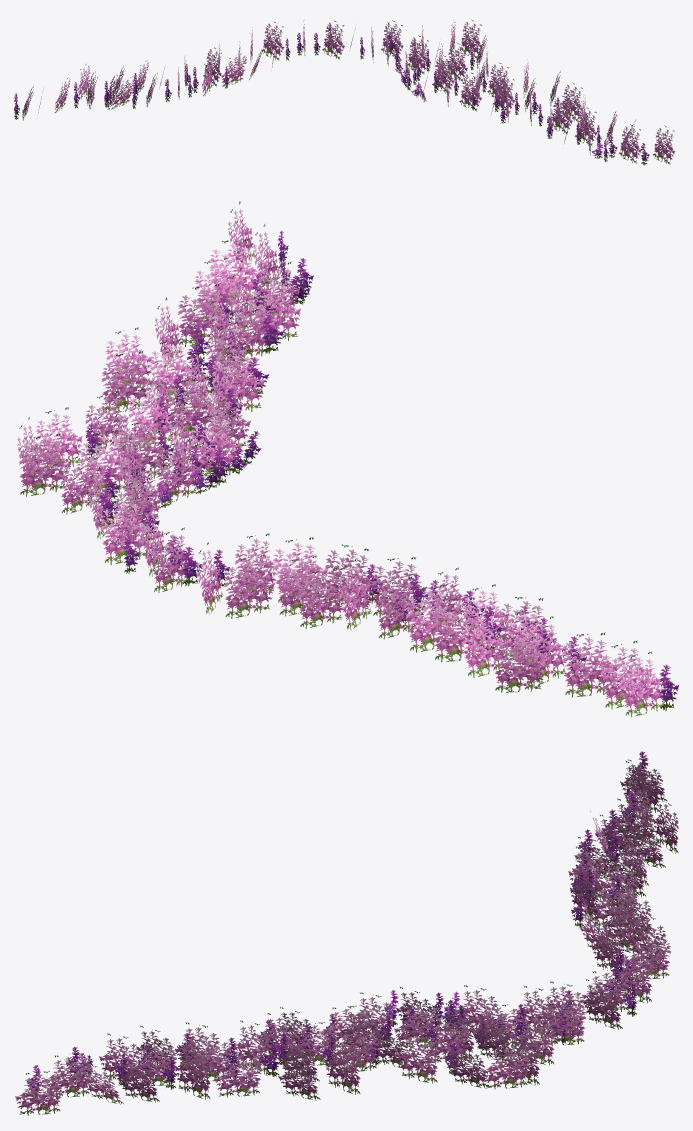
Rendered from Ma1_P_xiaohua01.FBX.
3 views of the same model, one above another, from view 1: azimuth 30°, elevation 25°; view 2: azimuth 150°, elevation 25°; view 3: azimuth 270°, elevation 25° (orthographic). The views are drawn at different scales.
Parts seen in each view (by area): view 1: Ma1_P_xiaohua01; view 2: Ma1_P_xiaohua01; view 3: Ma1_P_xiaohua01.
Part boxes in pixels (left/top/right/bottom): Ma1_P_xiaohua01: left=14, top=19, right=675, bottom=165; Ma1_P_xiaohua01: left=17, top=201, right=678, bottom=717; Ma1_P_xiaohua01: left=15, top=751, right=678, bottom=1115.
Size of the model in its own units: 6375 by 461 by 5398.
